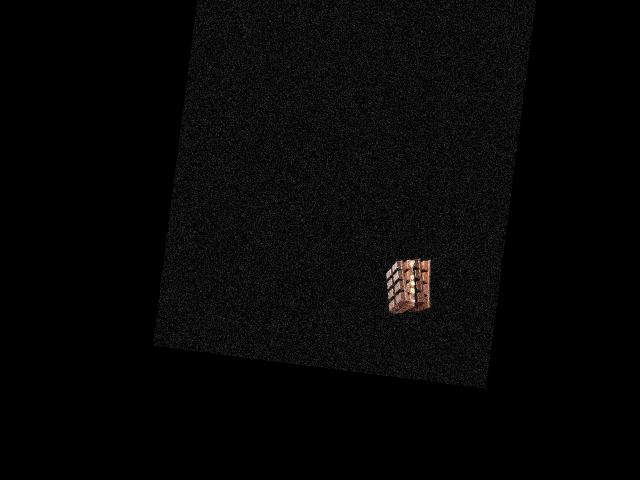chocolate: (381, 255, 438, 314)
